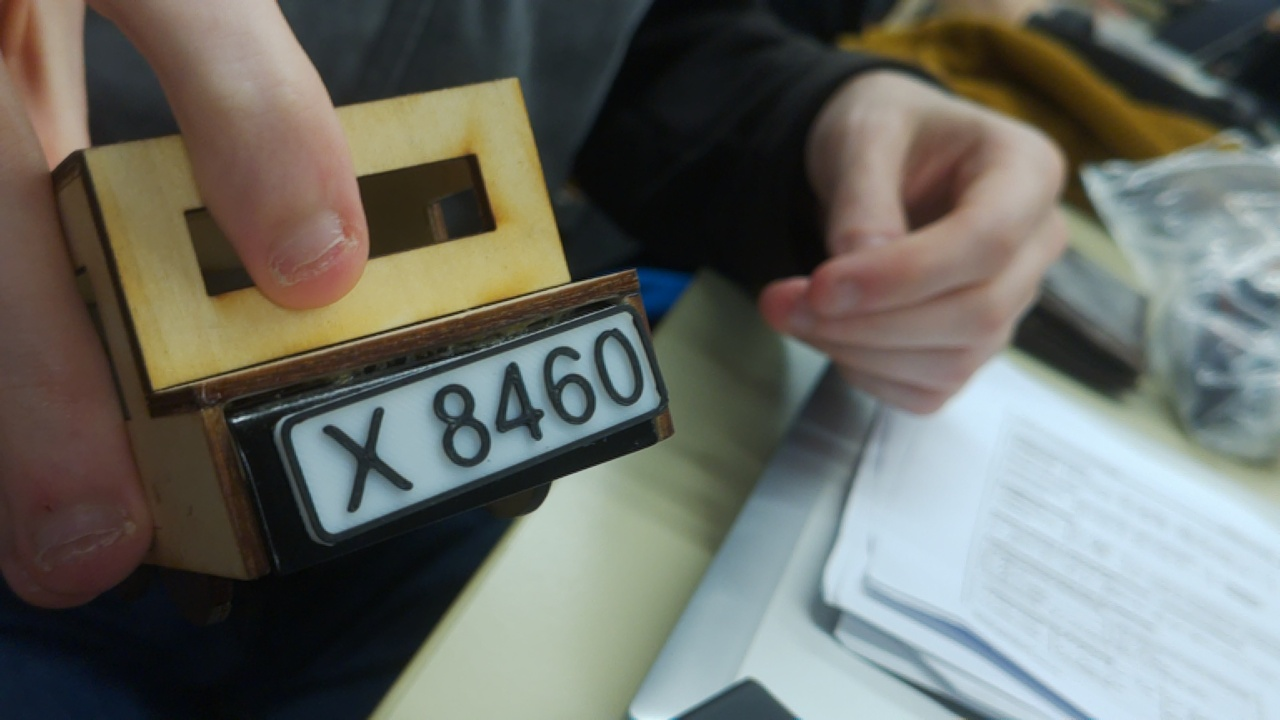license_plate: (264, 294, 677, 556)
